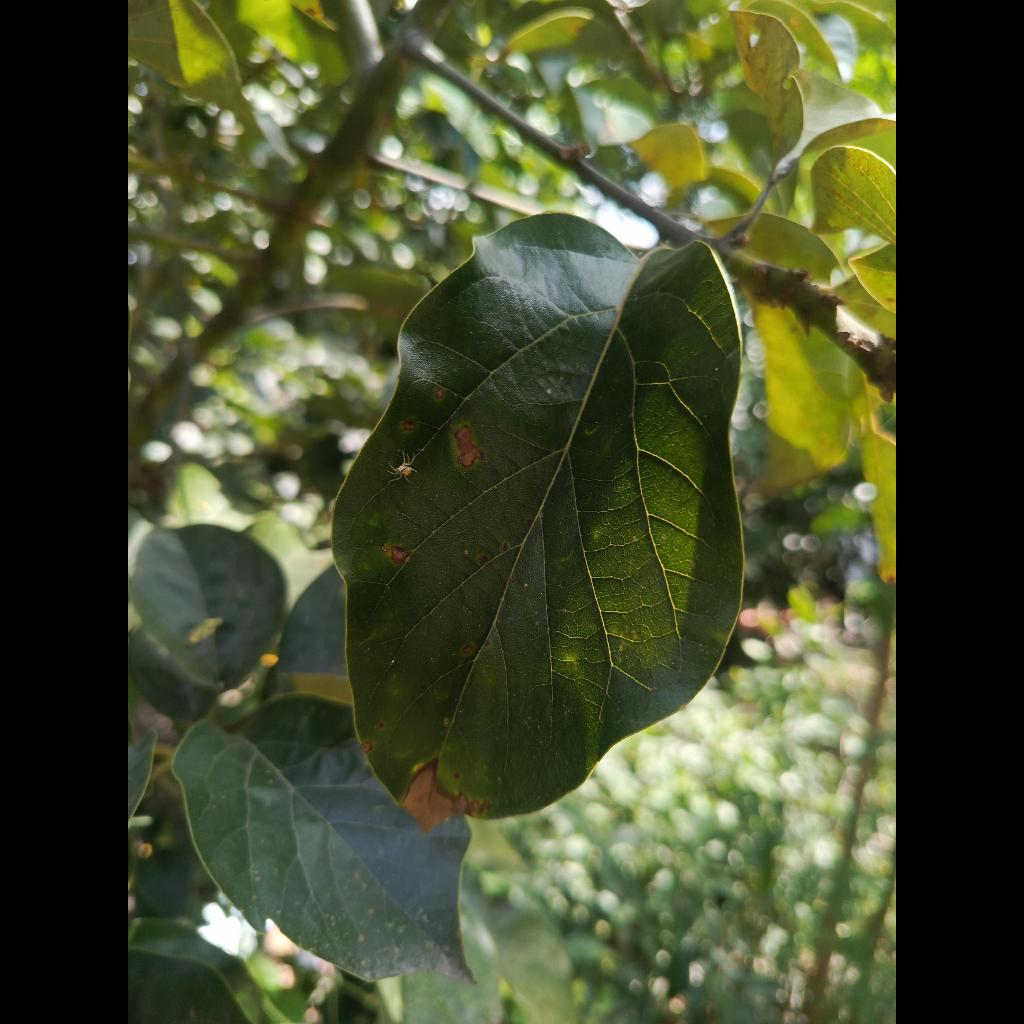antracnosis_hoja: (333, 214, 742, 829)
